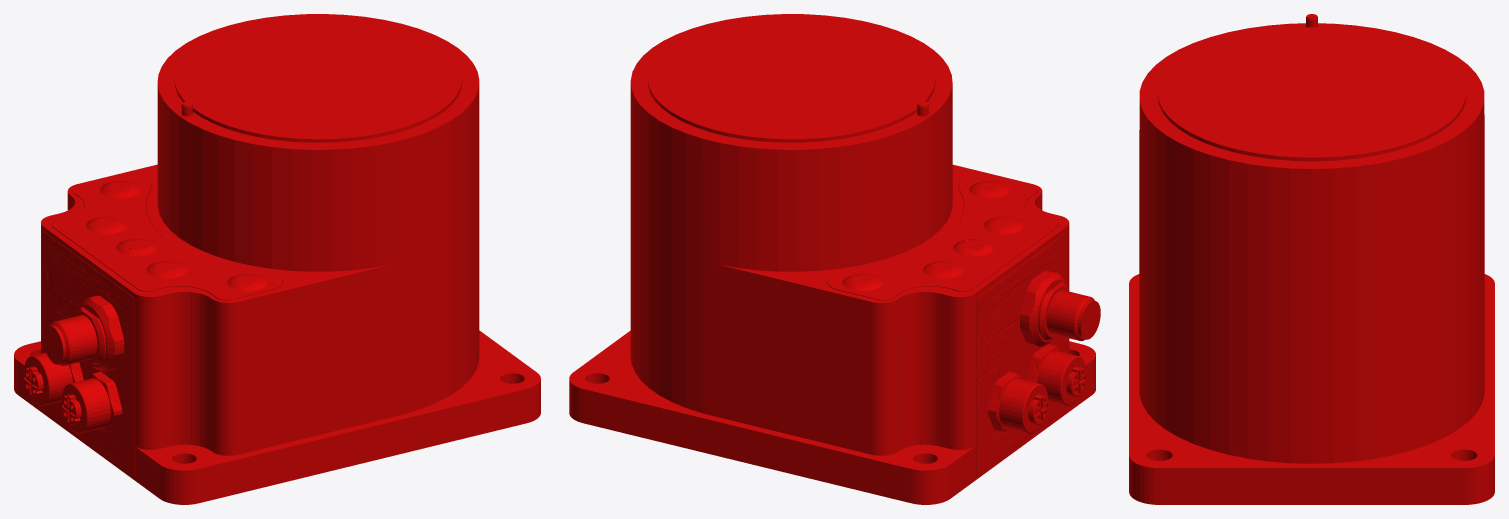
The model's file is meca_500_r3_base.dae.
3 renders of one model, left to right at view 1: azimuth 30°, elevation 25°; view 2: azimuth 150°, elevation 25°; view 3: azimuth 270°, elevation 25°, orthographic. The views are drawn at different scales.
Parts seen in each view (by area): view 1: Meca500_Assembly_simple_042; view 2: Meca500_Assembly_simple_042; view 3: Meca500_Assembly_simple_042.
Part boxes in pixels (x1=…): Meca500_Assembly_simple_042: x1=14, y1=14, x2=540, y2=504; Meca500_Assembly_simple_042: x1=569, y1=14, x2=1100, y2=504; Meca500_Assembly_simple_042: x1=1129, y1=14, x2=1494, y2=504.
Bounding box in the file's own units: 0.131 × 0.09 × 0.093.
